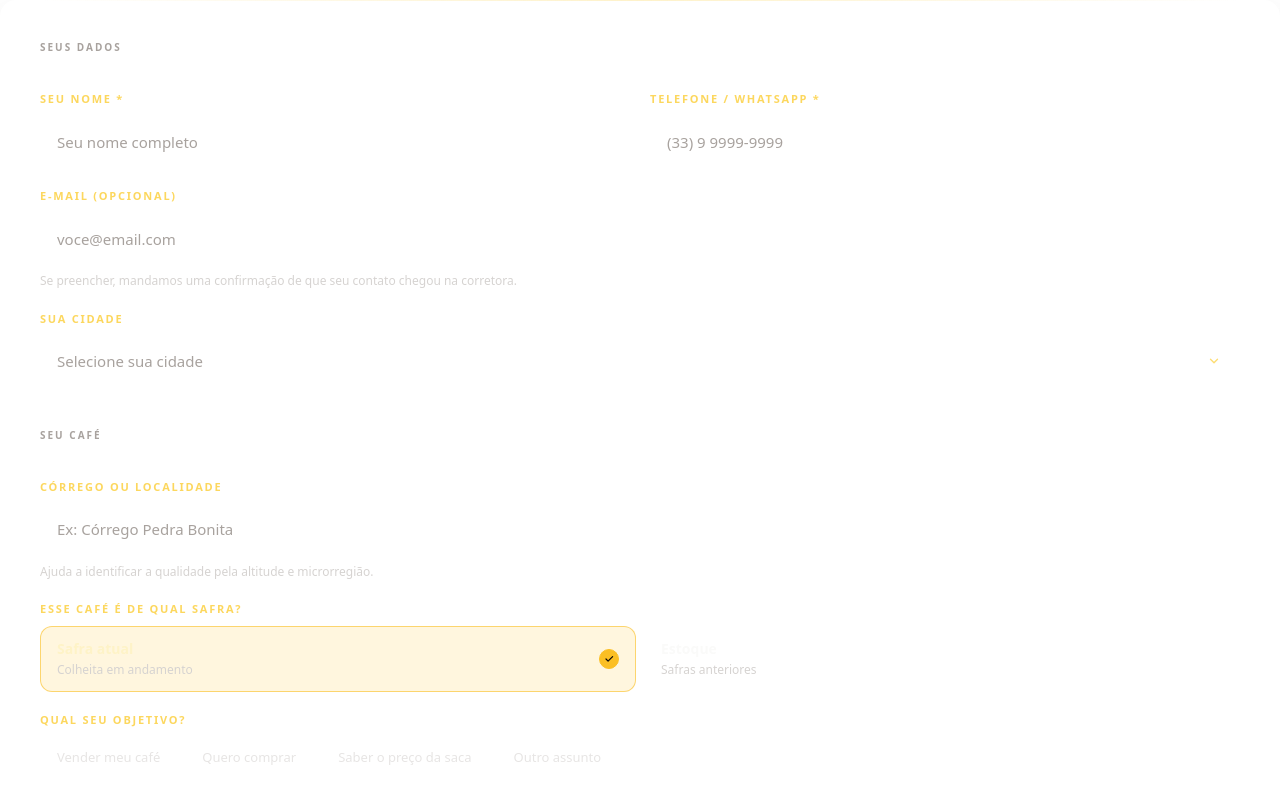
it: LeadContactForm — fluxo crítico de lead › não envia POST quando consentimento LGPD não foi marcado
The width and height of the screenshot is (1280, 800).
In the field labelled "Seu nome *": (335, 142) [40,116,630,168], type "Maria"
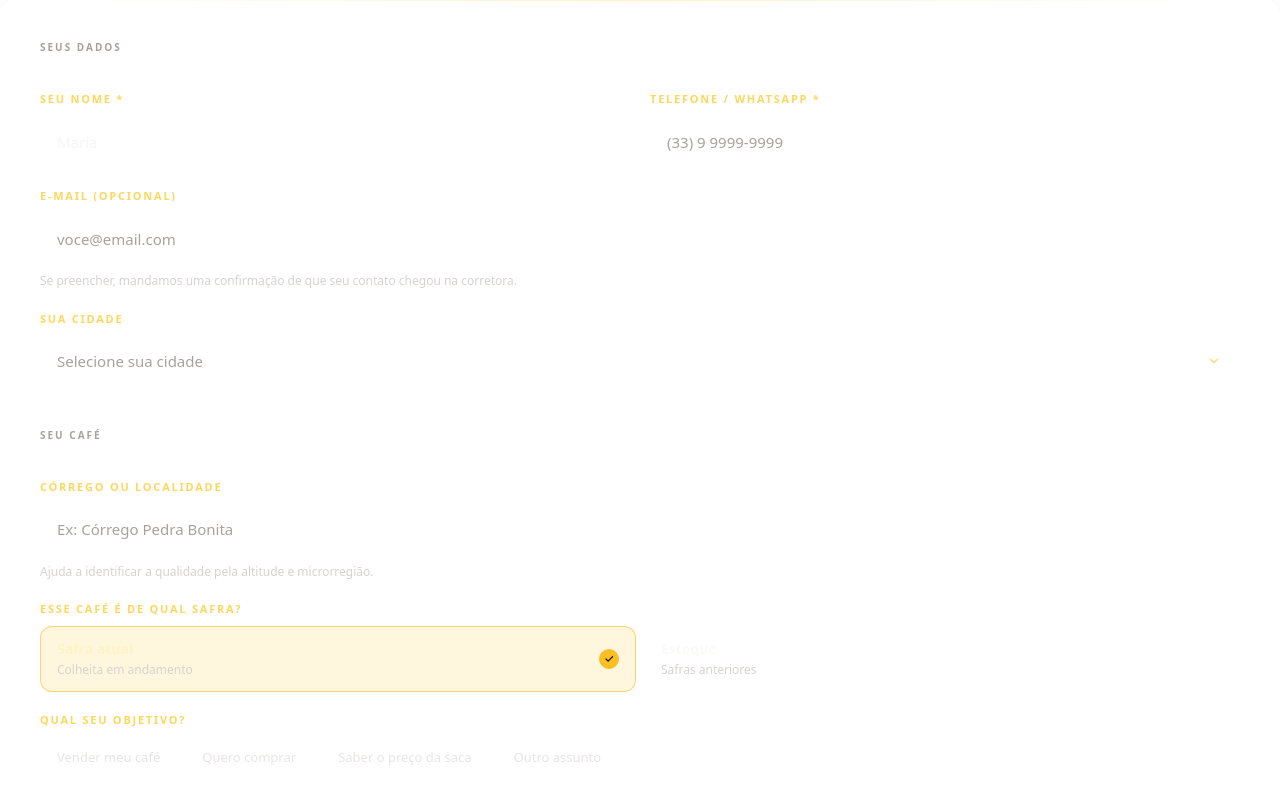
In the field labelled "Telefone / WhatsApp *": (945, 142) [650,116,1240,168], type "33999990000"
(page scrolled)
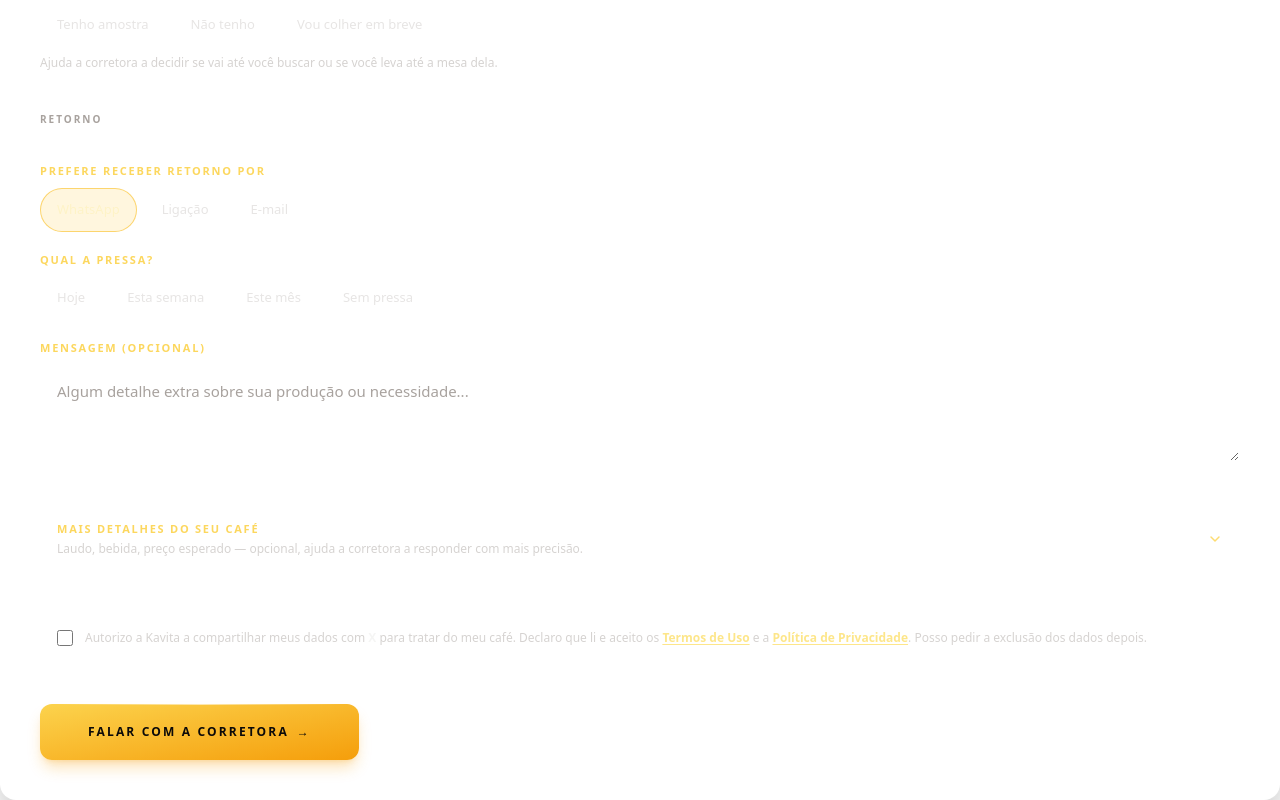
Click the button "Falar com a corretora →": (200, 732) [40,704,359,760]
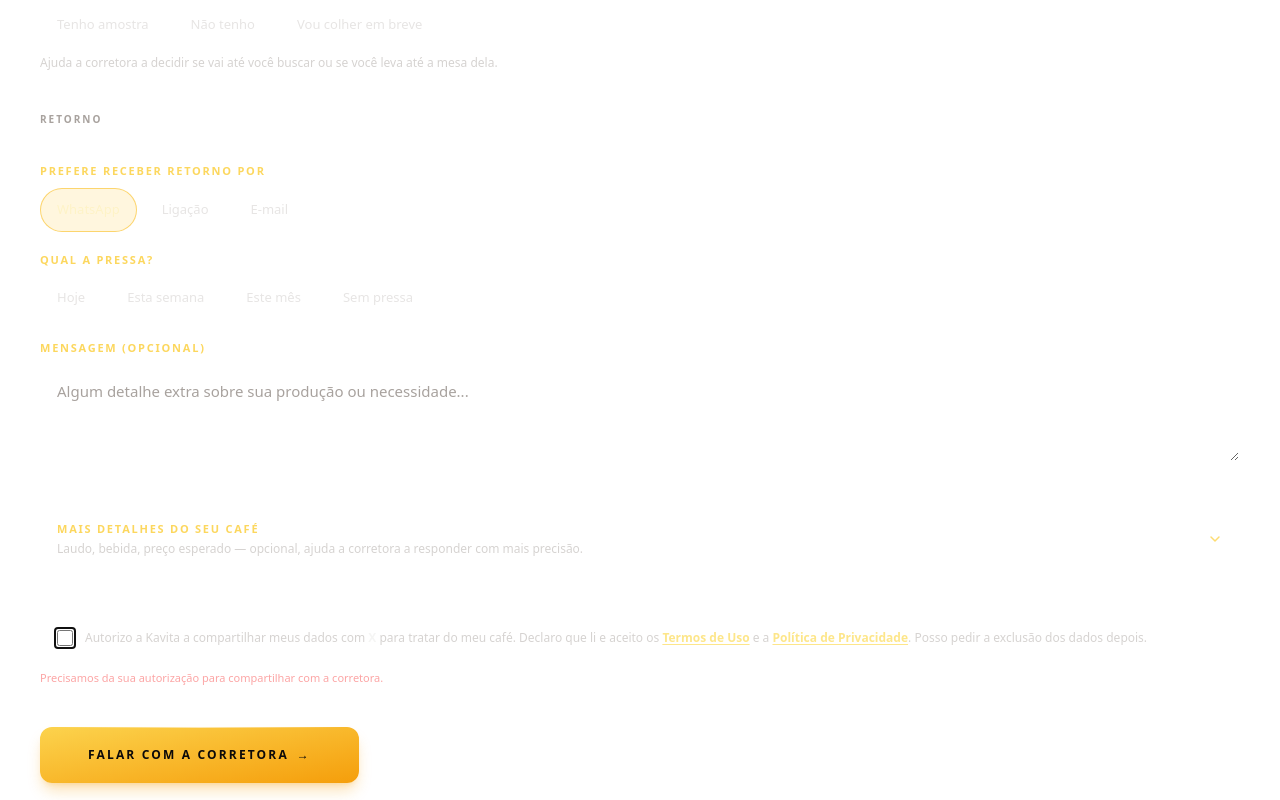
Now the text "autorização para compartilhar" is shown, box [40,670,383,685]
